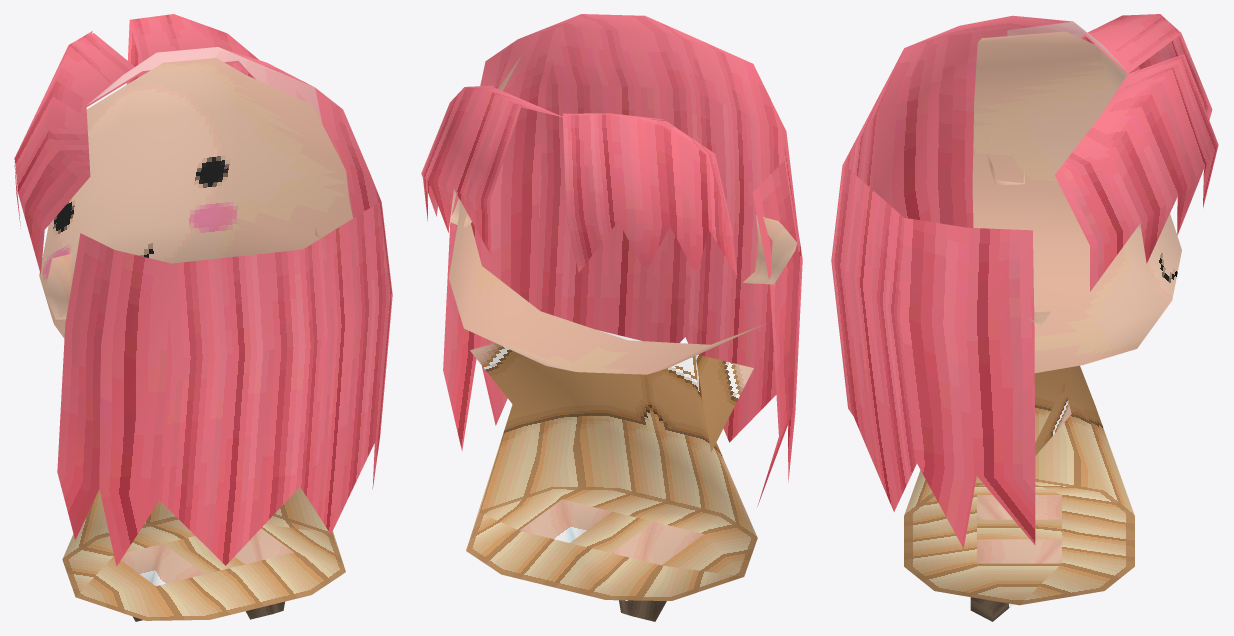
Rendered from ps2_save-icons_lovesongsidolgaclassmate-savedata.glb.
3 renders of one model, left to right at view 1: azimuth 30°, elevation 25°; view 2: azimuth 150°, elevation 25°; view 3: azimuth 270°, elevation 25°, orthographic. The views are drawn at different scales.
Visible parts, largest first — view 1: minichar.ico; view 2: minichar.ico; view 3: minichar.ico.
Part boxes in pixels (x1,y1,x2,y2): minichar.ico: (14,14,392,621); minichar.ico: (421,14,802,621); minichar.ico: (831,14,1218,621).
Bounding box in the file's own units: 2.63 × 4.07 × 2.57.
1 material, 1 textured.
